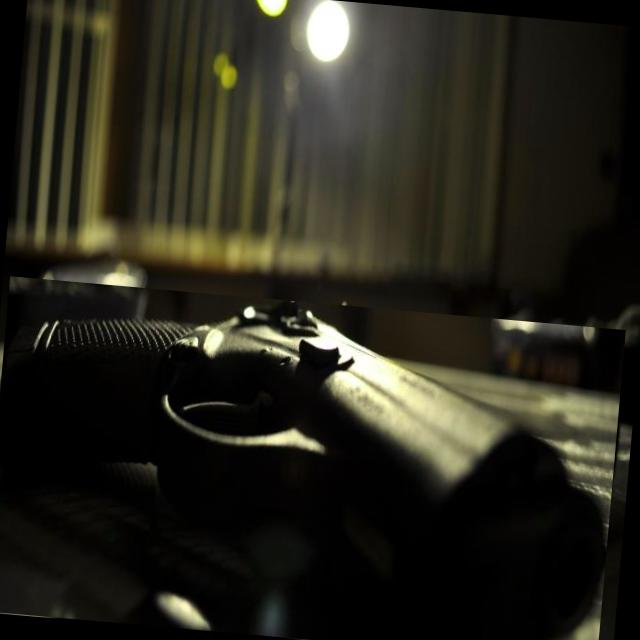Gun: (0, 301, 606, 640)
